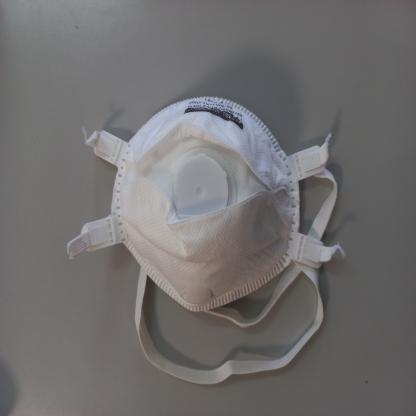mask: (101, 107, 353, 312)
